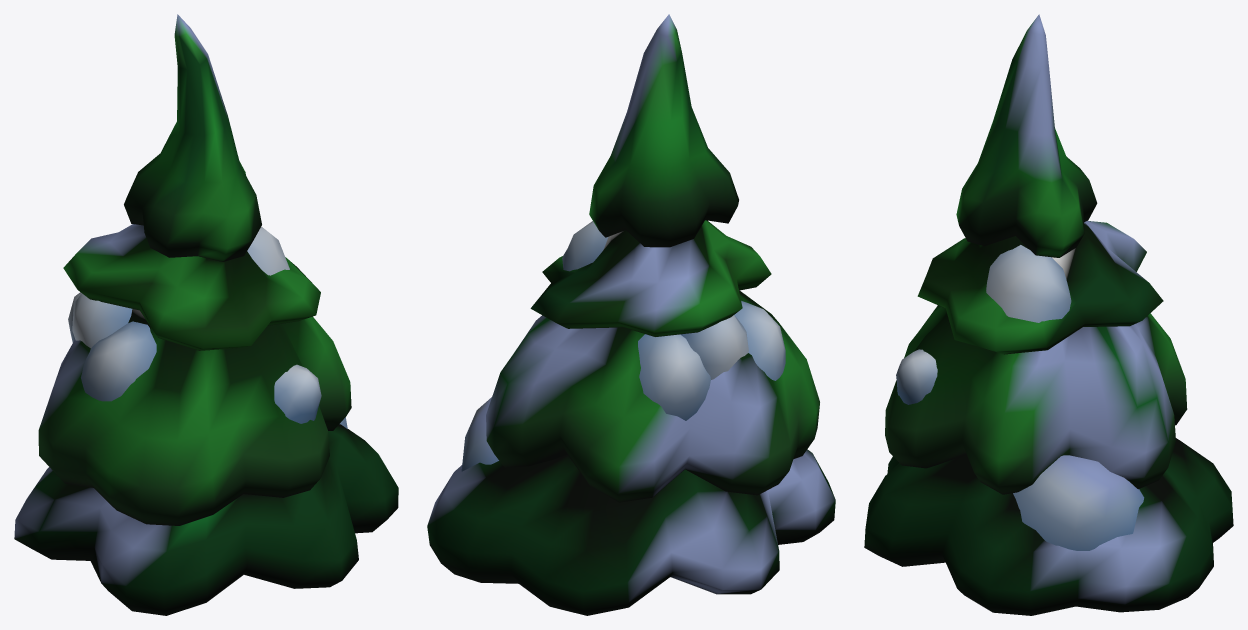
The model's file is Tree_02.fbx.
3 renders of one model, left to right at view 1: azimuth 30°, elevation 25°; view 2: azimuth 150°, elevation 25°; view 3: azimuth 270°, elevation 25°, orthographic. The views are drawn at different scales.
Visible parts, largest first — view 1: Tree_02; view 2: Tree_02; view 3: Tree_02.
Boxes of the visible parts, box(x1,y1,x2,y2) form: Tree_02: box(14, 14, 398, 615); Tree_02: box(427, 14, 835, 615); Tree_02: box(864, 14, 1233, 615).
Bounding box in the file's own units: 3040 × 4754 × 3063.
